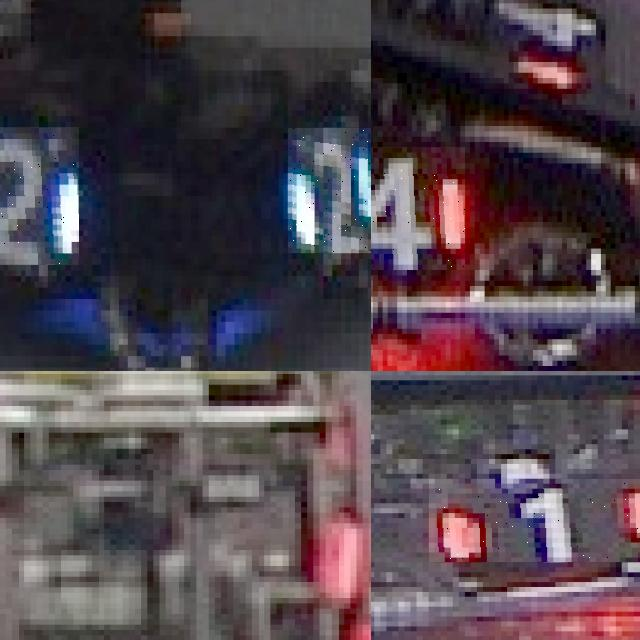B2: (0, 127, 79, 264), (287, 127, 371, 253)
R1: (428, 478, 640, 562)
R4: (371, 147, 465, 269)
